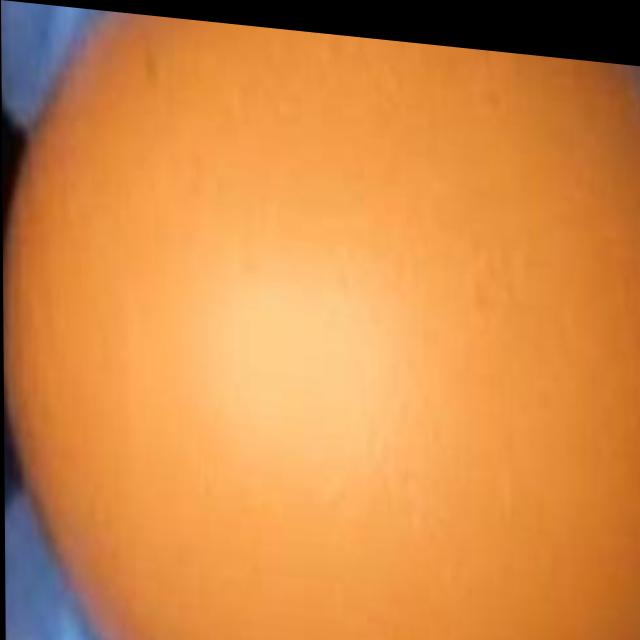fresh: (7, 1, 640, 640)
